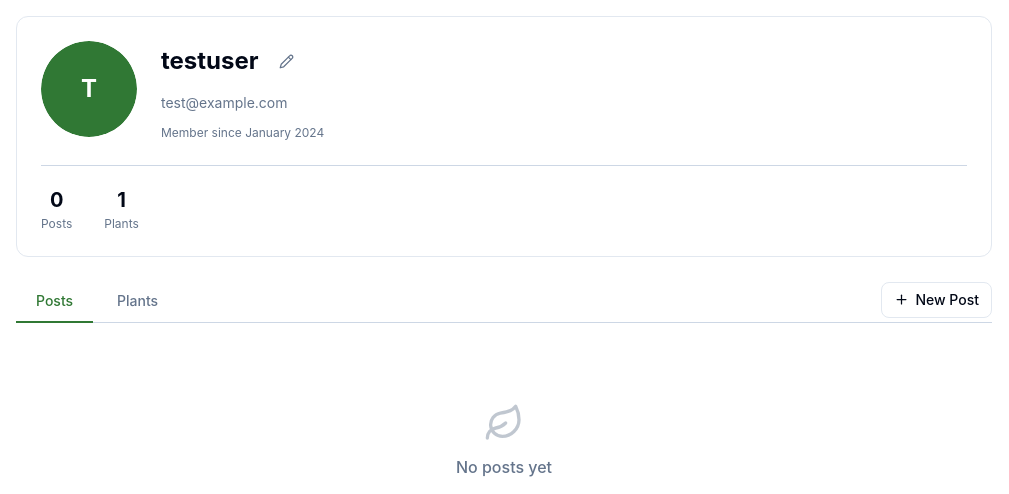
Test: ProfilePage › Post and plant cards › renders plant name and species when plants exist
Click the button "Plants".
click(138, 302)  # box x1=97 y1=281 x2=178 y2=323
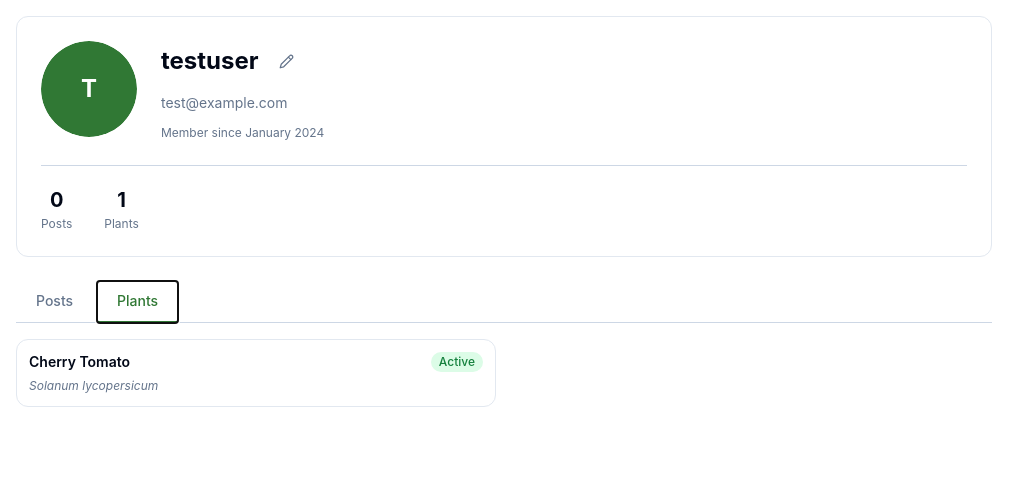
Now the text "Cherry Tomato" is shown, box x1=29 y1=352 x2=130 y2=372
Now the text "Solanum lycopersicum" is shown, box x1=29 y1=378 x2=158 y2=393
